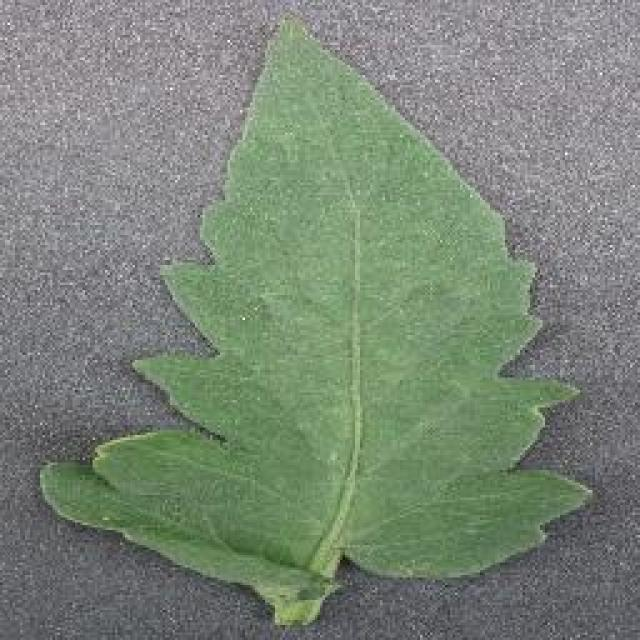Tomato healthy leaf: (42, 22, 602, 628)
